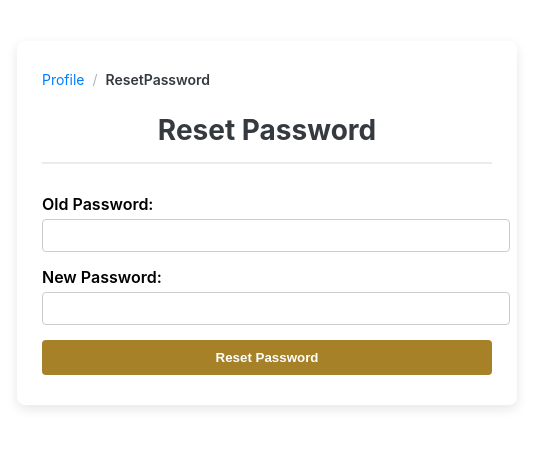
Test: shows validation error for invalid new password
This screenshot has width=535, height=466.
Step 1. Type "oldPass1!" into the password field labelled "Old Password:" → coordinates (276, 236), box [42,219,510,252]
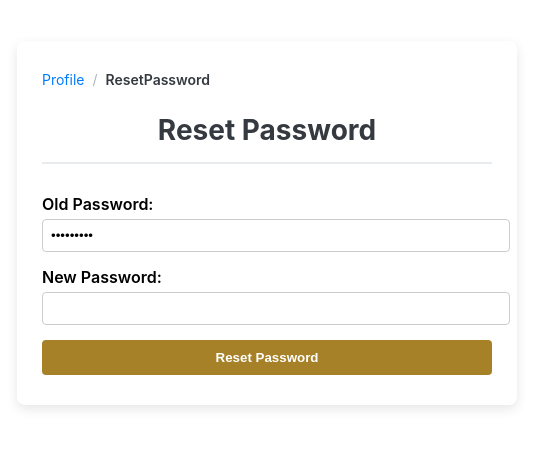
Step 2. Type "short" into the password field labelled "New Password:" → coordinates (276, 308), box [42,292,510,325]
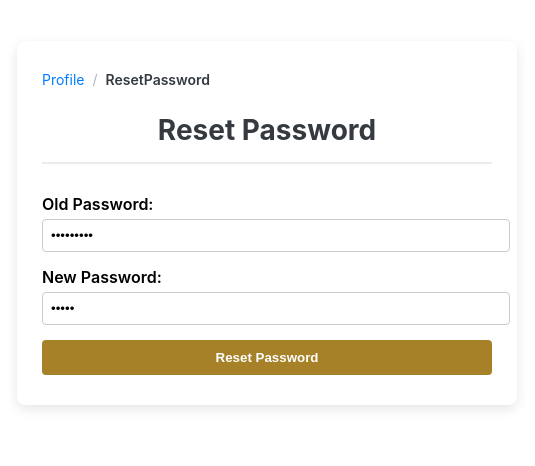
Step 3. Click the button "Reset Password" → coordinates (267, 358), box [42,340,492,375]
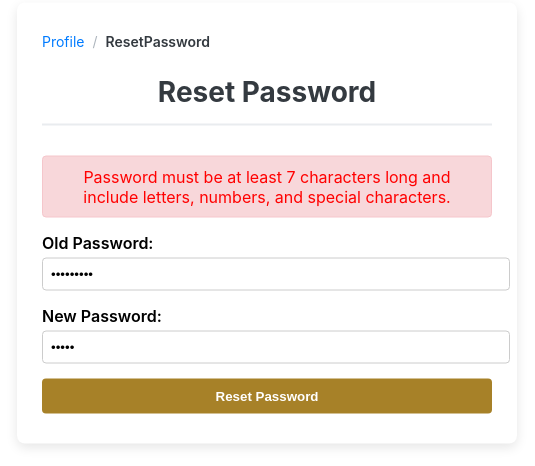
Expected: the text "Password must be at least 7 characters long" is shown, [83,166,451,206]
